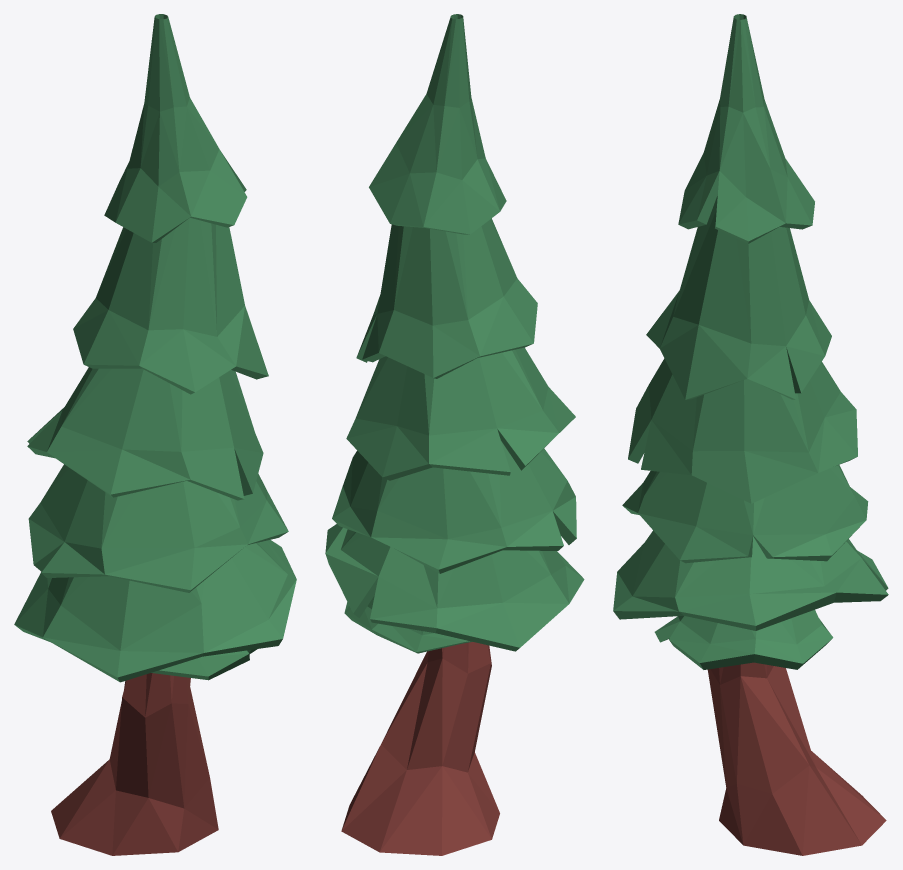
File: A_Arvore2.fbx
3 views of the same model, side by side, from view 1: azimuth 30°, elevation 25°; view 2: azimuth 150°, elevation 25°; view 3: azimuth 270°, elevation 25° (orthographic). The views are drawn at different scales.
Visible parts, largest first — view 1: Circle; view 2: Circle; view 3: Circle.
Part boxes in pixels (bbox=[...]): Circle: bbox=[14, 14, 296, 855]; Circle: bbox=[325, 14, 584, 855]; Circle: bbox=[613, 14, 888, 855].
Size of the model in its own units: 561 by 1766 by 551.
